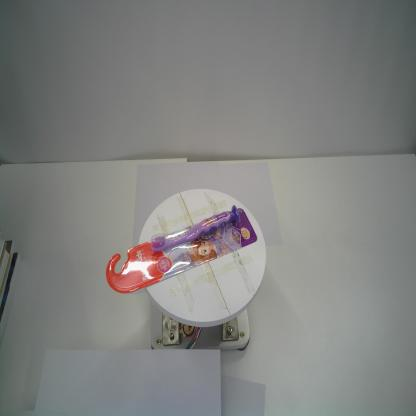Personal Hygiene: (106, 204, 258, 294)
